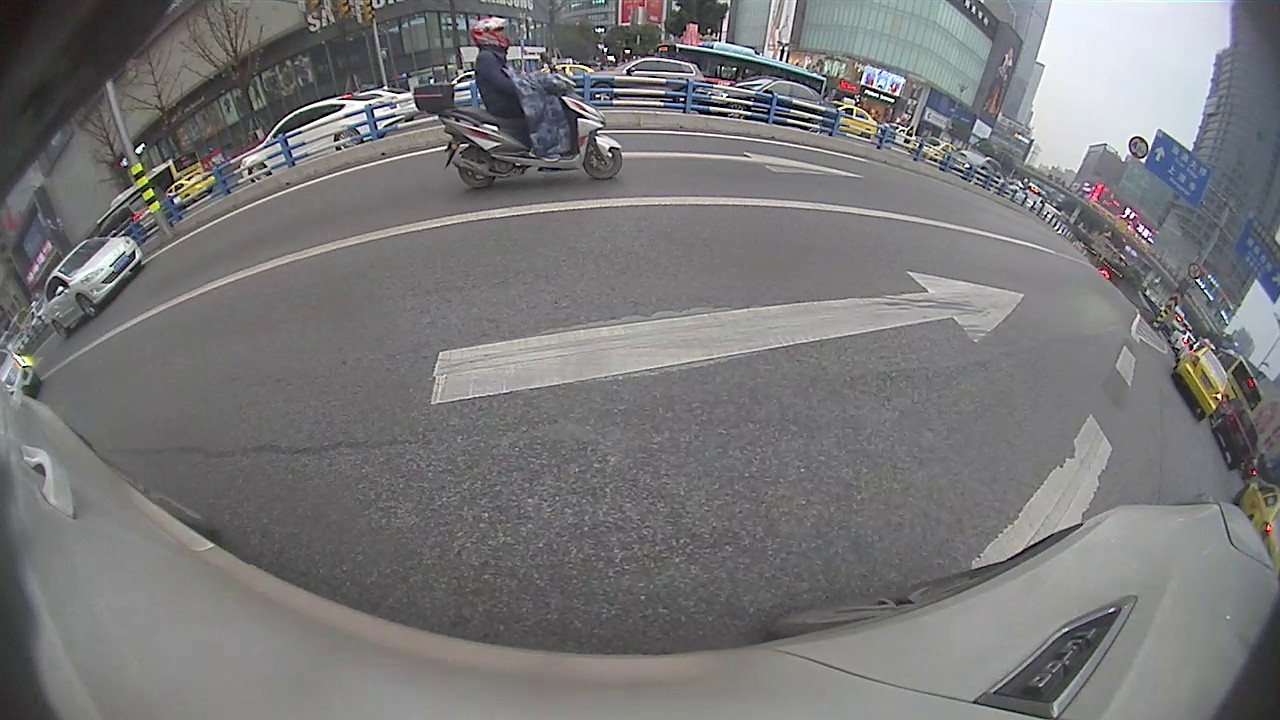car: (237, 92, 402, 187), (39, 232, 148, 341), (688, 74, 841, 138), (583, 57, 709, 111), (1168, 344, 1231, 422)
front: (581, 143, 622, 182), (591, 82, 616, 106), (74, 294, 97, 316), (250, 162, 271, 184)
rear: (457, 149, 494, 186), (338, 126, 364, 153)
rider: (411, 15, 626, 192)
